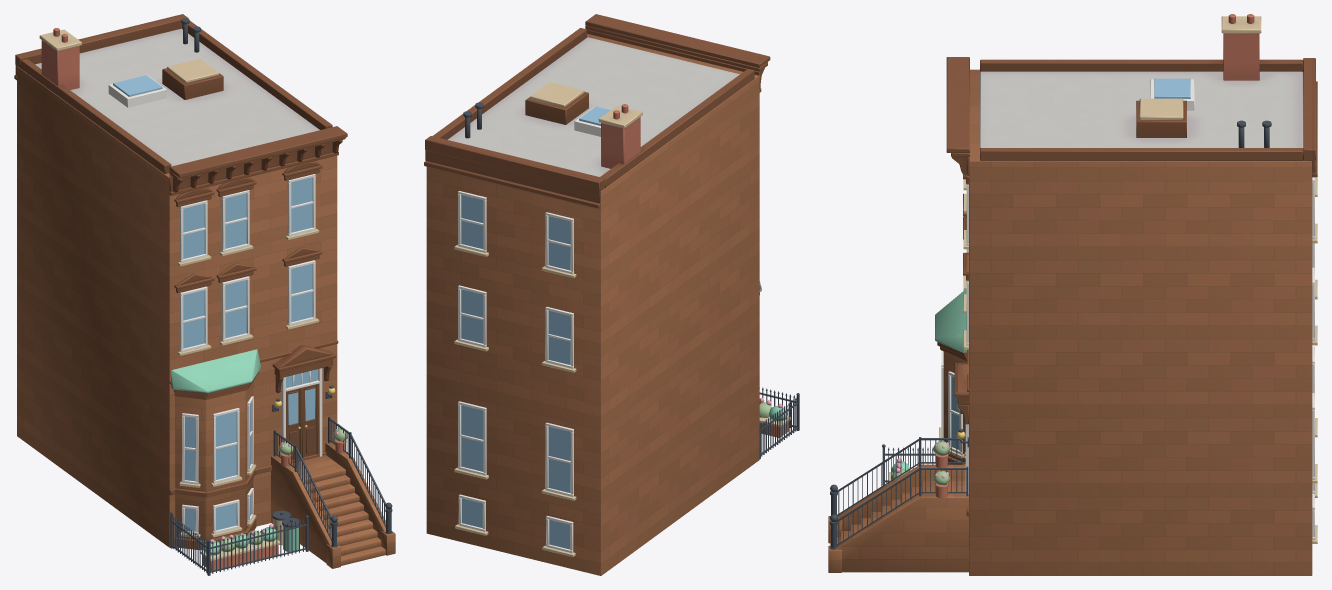
File: brownstone-house.glb
3 views of the same model, side by side, from view 1: azimuth 30°, elevation 25°; view 2: azimuth 150°, elevation 25°; view 3: azimuth 270°, elevation 25° (orthographic). The views are drawn at different scales.
Visible parts, largest first — view 1: brownstone-house_walls, brownstone-house_body, brownstone-house_windows, brownstone-house_iron, brownstone-house_details, brownstone-house_plants; view 2: brownstone-house_walls, brownstone-house_body, brownstone-house_windows, brownstone-house_iron, brownstone-house_details; view 3: brownstone-house_walls, brownstone-house_body, brownstone-house_windows, brownstone-house_iron, brownstone-house_details, brownstone-house_plants.
Part boxes in pixels (left/top/right/bottom): brownstone-house_walls: left=17, top=66, right=395, bottom=568; brownstone-house_body: left=14, top=14, right=347, bottom=550; brownstone-house_windows: left=178, top=174, right=322, bottom=538; brownstone-house_iron: left=170, top=416, right=392, bottom=575; brownstone-house_details: left=108, top=18, right=346, bottom=570; brownstone-house_plants: left=203, top=428, right=347, bottom=555; brownstone-house_walls: left=426, top=33, right=759, bottom=575; brownstone-house_body: left=424, top=14, right=770, bottom=403; brownstone-house_windows: left=454, top=191, right=576, bottom=556; brownstone-house_iron: left=759, top=387, right=799, bottom=458; brownstone-house_details: left=463, top=102, right=790, bottom=437; brownstone-house_walls: left=828, top=69, right=1312, bottom=575; brownstone-house_body: left=935, top=14, right=1317, bottom=516; brownstone-house_windows: left=939, top=177, right=1317, bottom=543; brownstone-house_iron: left=829, top=437, right=968, bottom=549; brownstone-house_details: left=889, top=78, right=1271, bottom=498; brownstone-house_plants: left=891, top=440, right=950, bottom=485.
Size of the model in its own units: 6 by 14.45 by 13.48.
18 materials, 2 textured.
